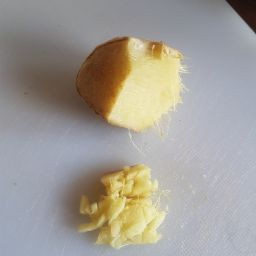Minced ginger: (50, 28, 197, 131), (69, 159, 180, 256), (95, 177, 154, 238)
